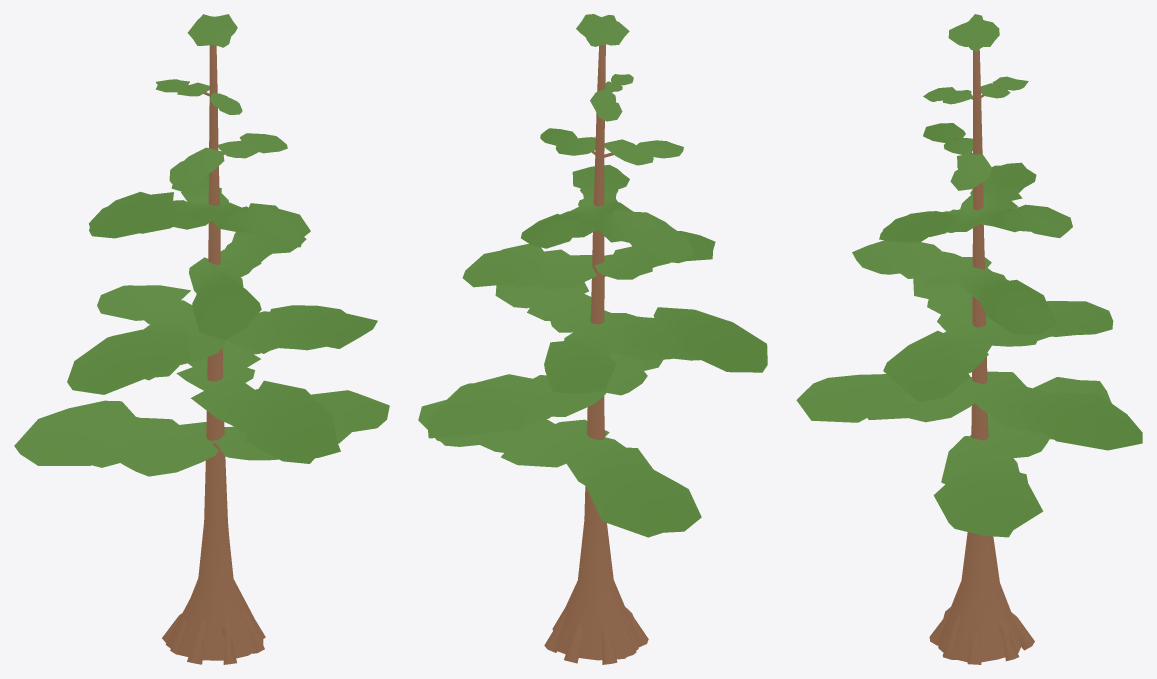
Rendered from Blender_BaldCypress_2.glb.
The picture shows the model from 3 angles, left to right: view 1: azimuth 30°, elevation 25°; view 2: azimuth 150°, elevation 25°; view 3: azimuth 270°, elevation 25°; orthographic projection.
Visible parts, largest first — view 1: Blender_BaldCypress_2; view 2: Blender_BaldCypress_2; view 3: Blender_BaldCypress_2.
Boxes of the visible parts, left/top/right/bottom form: Blender_BaldCypress_2: left=14, top=14, right=389, bottom=664; Blender_BaldCypress_2: left=418, top=14, right=767, bottom=664; Blender_BaldCypress_2: left=796, top=14, right=1142, bottom=664.
Bounding box in the file's own units: 13.28 × 23.97 × 12.03.
